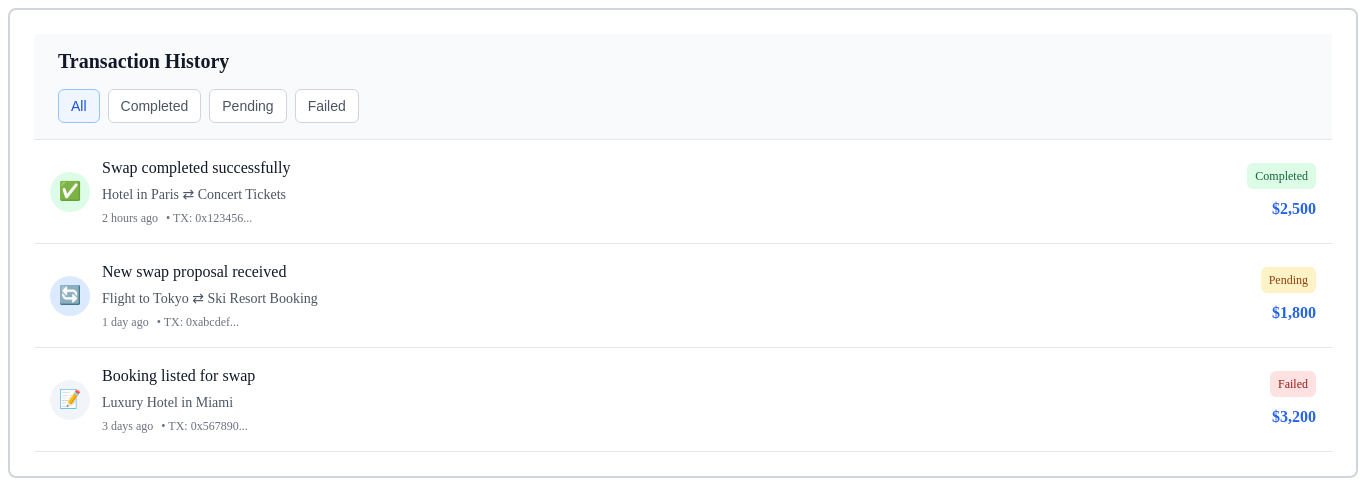
TransactionHistory › shows all transactions when "All" filter is selected
This screenshot has width=1366, height=495.
First filter by completed
Click the button "Completed": (154, 106) x1=108 y1=89 x2=201 y2=123
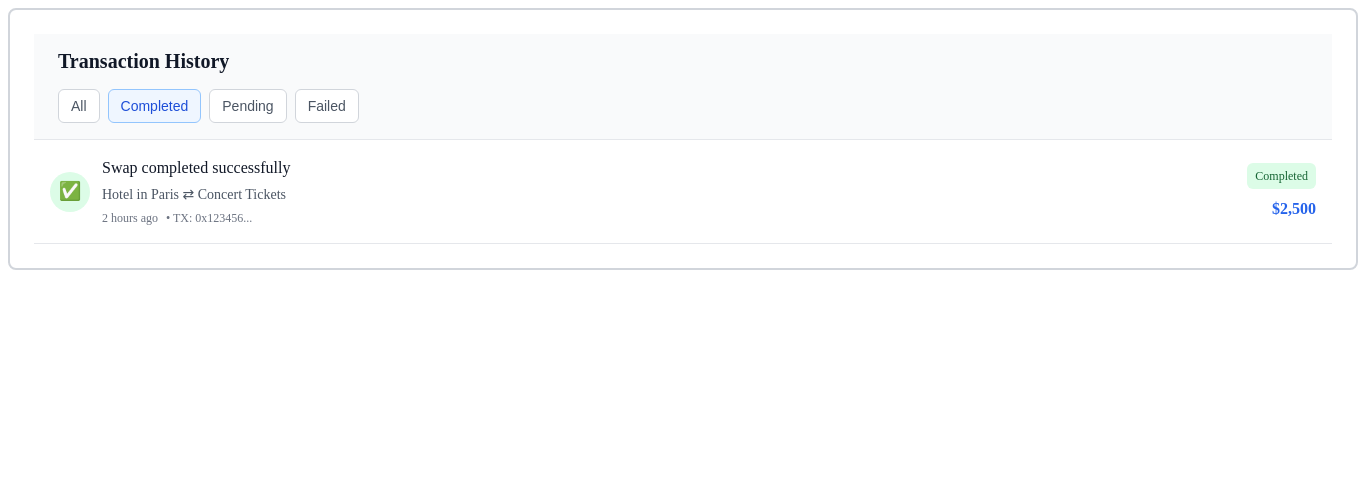
Then click "All" to show all transactions again
Click the button "All": (79, 106) x1=58 y1=89 x2=100 y2=123
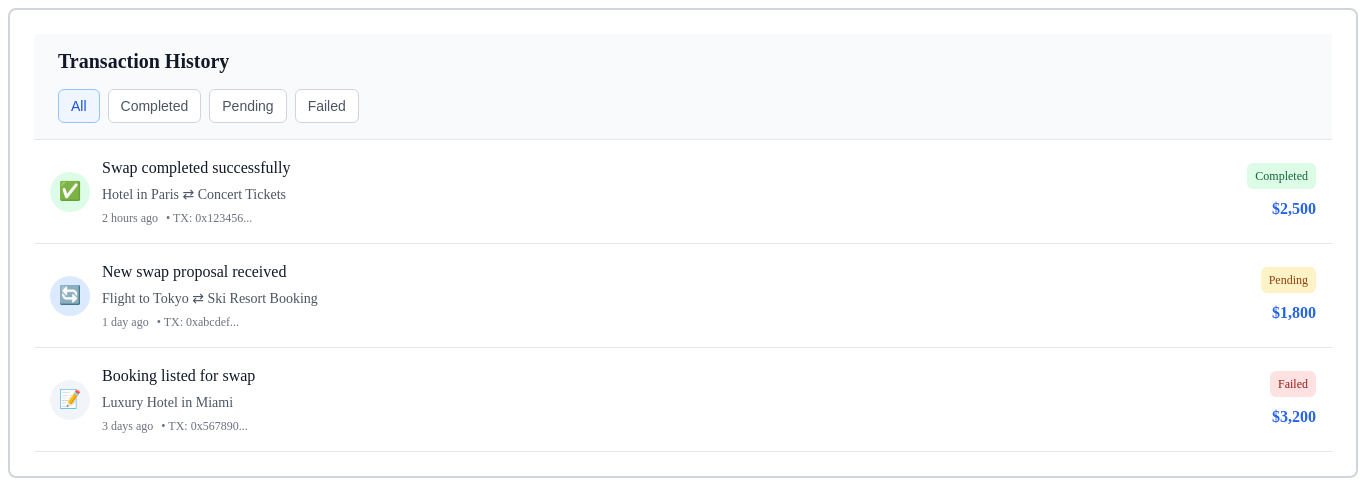
Expected: the text "Swap completed successfully" is shown, x1=102 y1=159 x2=290 y2=176
Now the text "New swap proposal received" is shown, box x1=102 y1=263 x2=286 y2=280
Now the text "Booking listed for swap" is shown, box x1=102 y1=367 x2=255 y2=384
